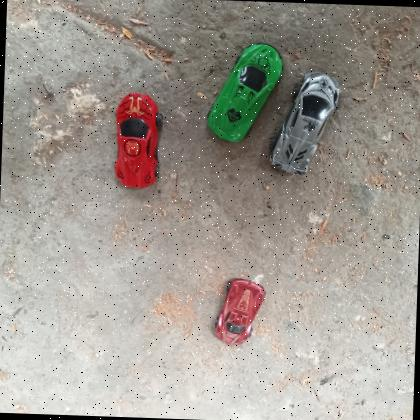Car: (203, 39, 286, 146), (268, 69, 342, 178), (112, 90, 164, 190), (214, 276, 268, 347)
